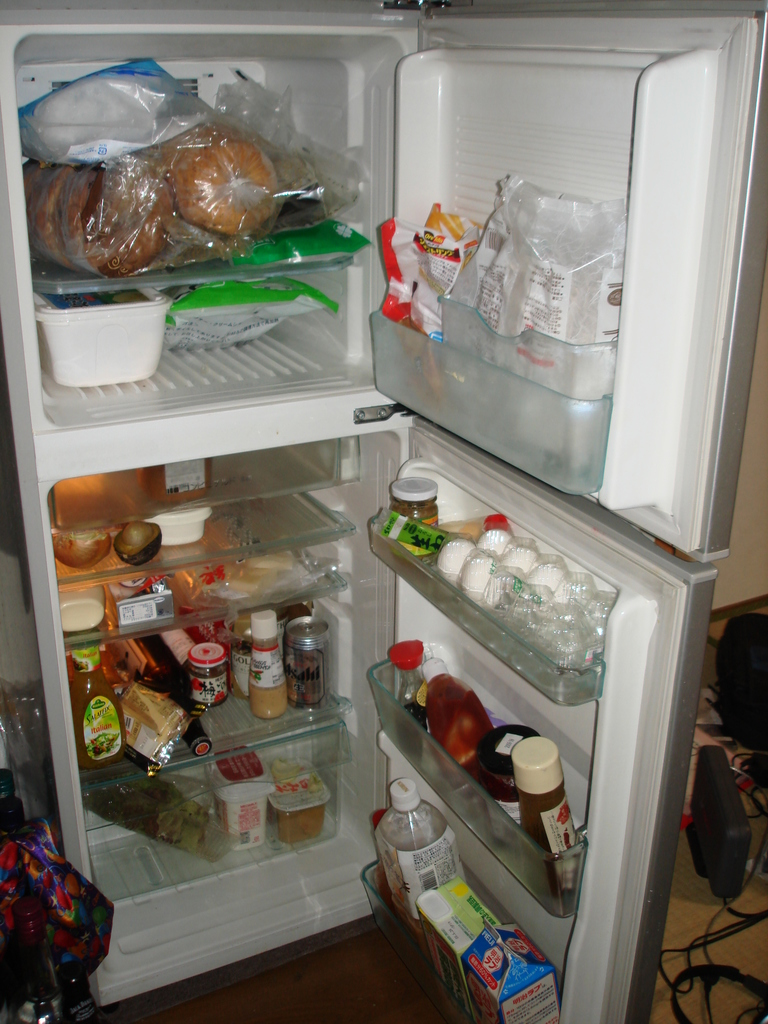refrigerator door: (418, 51, 730, 508), (407, 491, 653, 1023)
